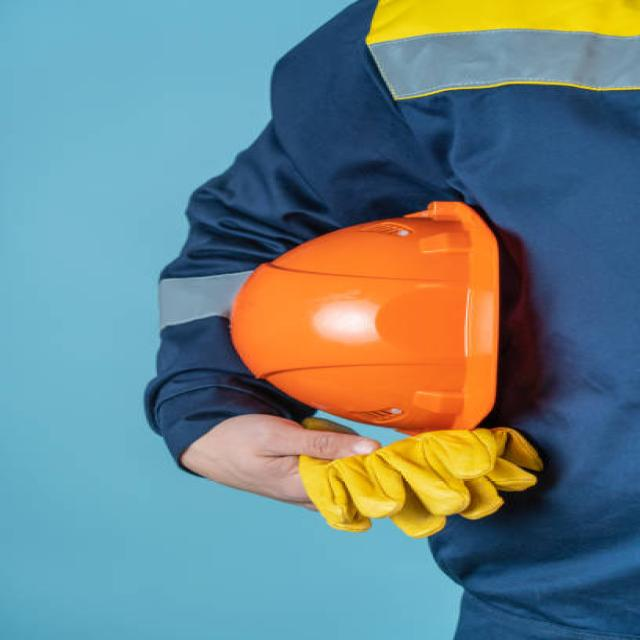Gloves: (290, 423, 554, 540)
helmet: (231, 202, 524, 436)
person: (136, 0, 640, 639)
